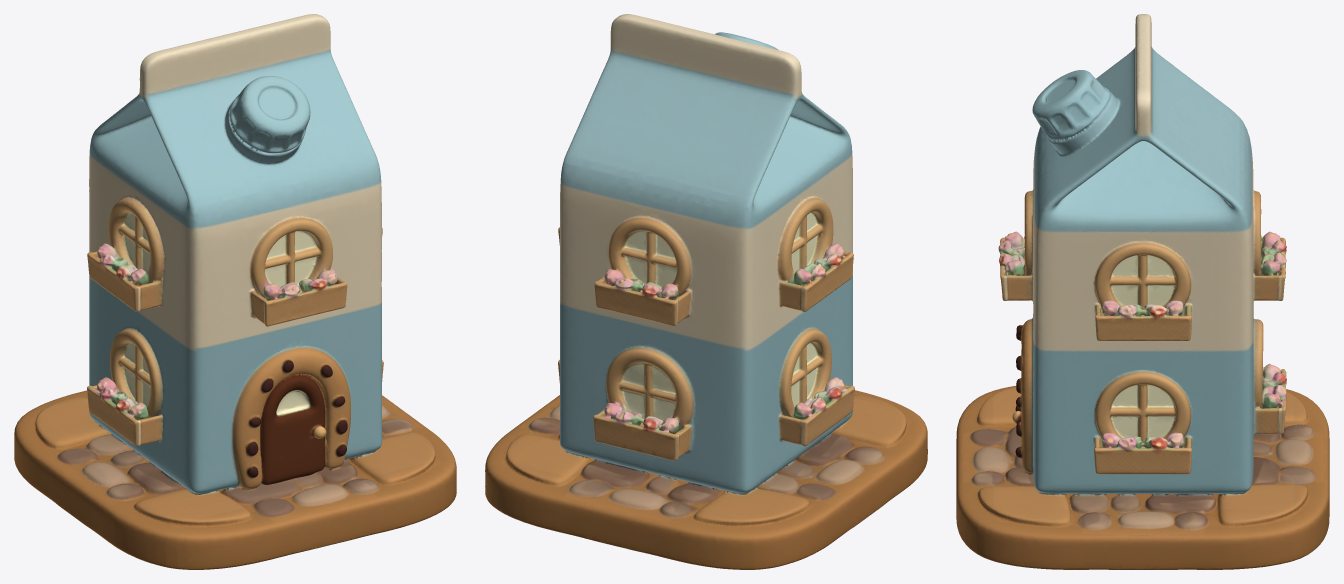
The model's file is milk-carton-apartments.glb.
3 views of the same model, side by side, from view 1: azimuth 30°, elevation 25°; view 2: azimuth 150°, elevation 25°; view 3: azimuth 270°, elevation 25° (orthographic).
Bounding box in the file's own units: 1.46 × 1.9 × 1.46.
1 material, 1 textured.
